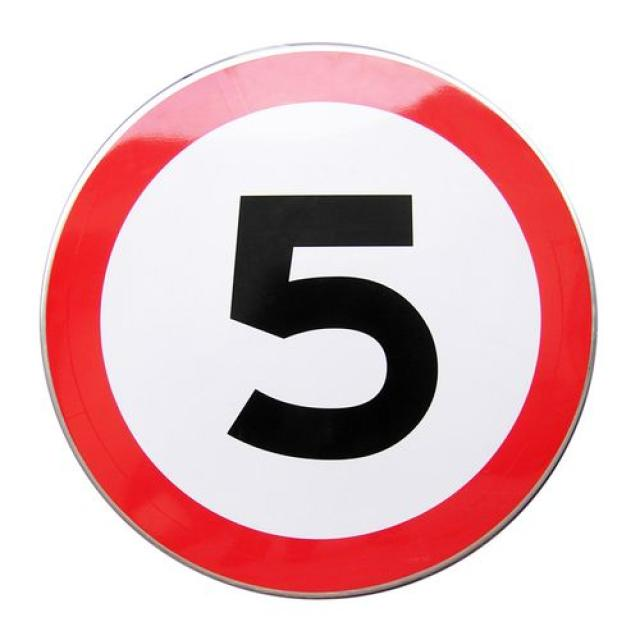speed limit 10: (34, 40, 595, 599)
